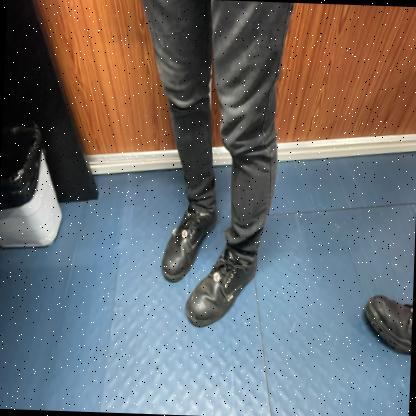bota: (184, 245, 258, 330), (160, 202, 218, 286), (363, 288, 413, 362)
